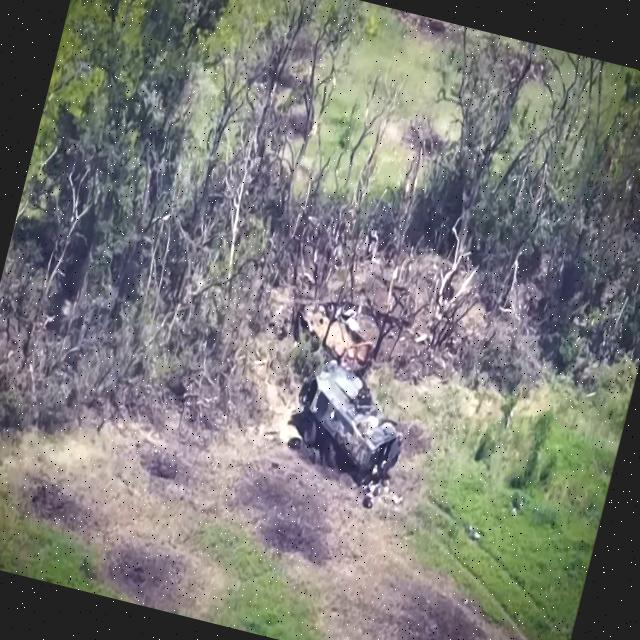APC: (279, 361, 419, 500)
Destroyed: (286, 294, 382, 381)
